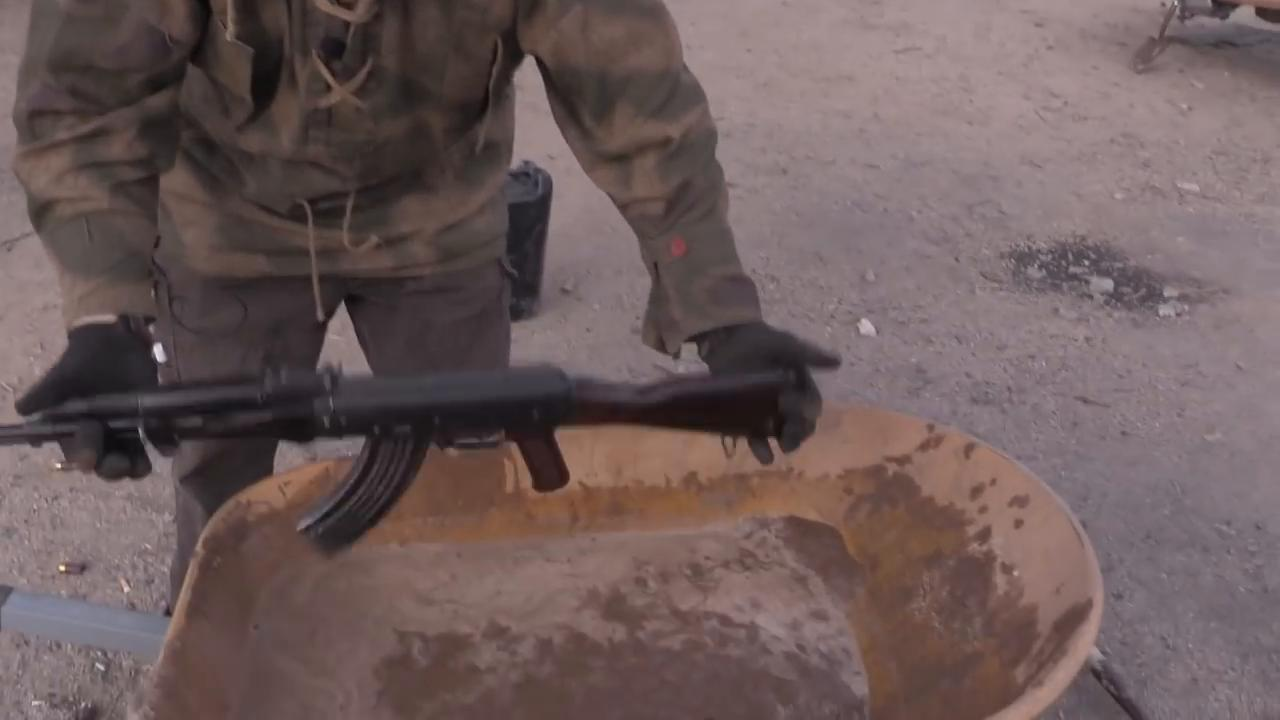AK47 Rifle: (1, 370, 788, 555)
